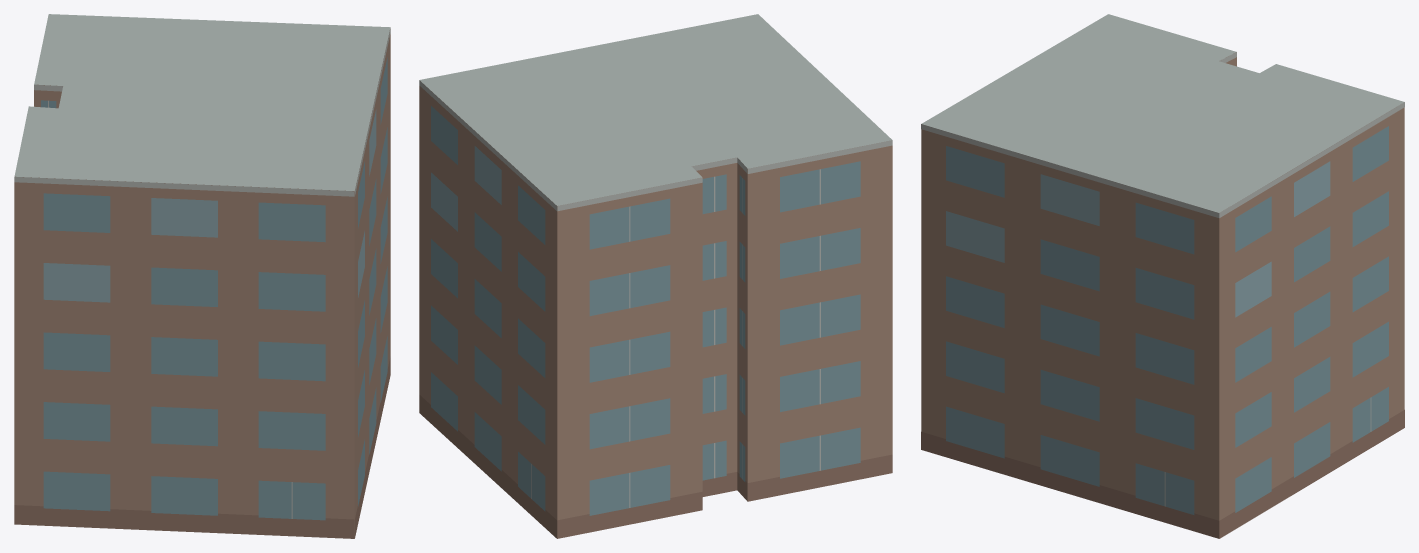
File: survey-upis-32982443.glb
3 views of the same model, side by side, from view 1: azimuth 30°, elevation 25°; view 2: azimuth 150°, elevation 25°; view 3: azimuth 270°, elevation 25° (orthographic). The views are drawn at different scales.
Parts seen in each view (by area): view 1: survey-upis-32982443.tmp; view 2: survey-upis-32982443.tmp; view 3: survey-upis-32982443.tmp.
Boxes of the visible parts, x1,y1,x2,y2 form: survey-upis-32982443.tmp: (14, 14, 390, 538); survey-upis-32982443.tmp: (419, 14, 892, 538); survey-upis-32982443.tmp: (921, 14, 1404, 538).
Bounding box in the file's own units: 19.99 × 15.25 × 20.52.
